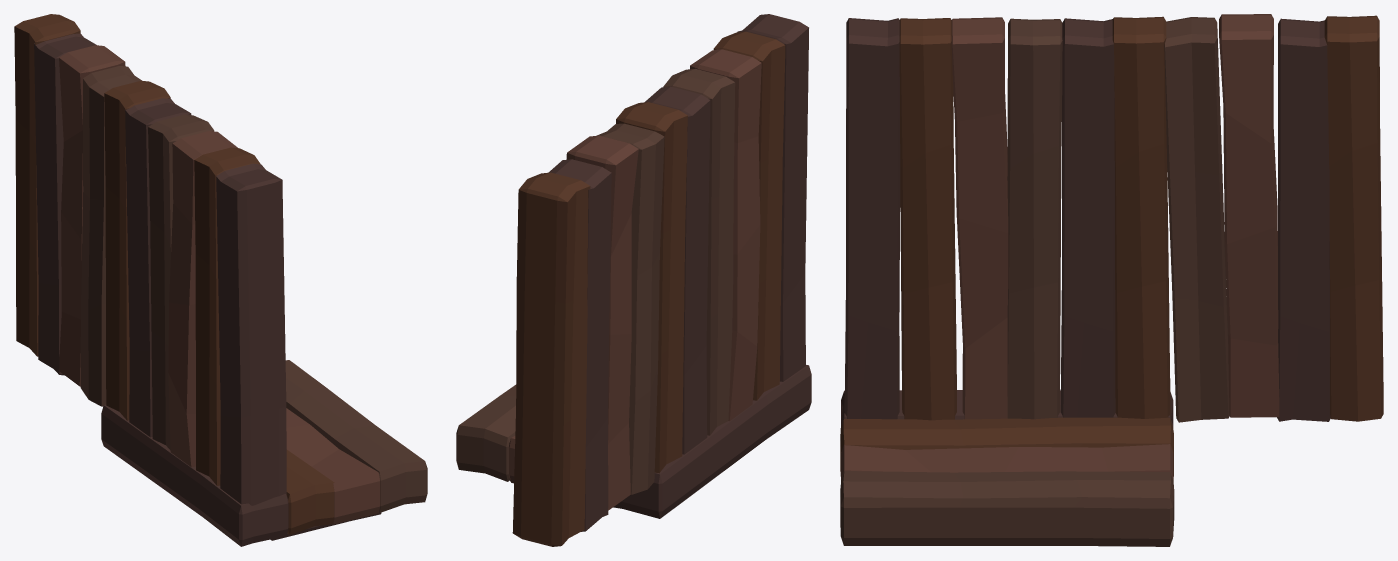
The model's file is StairModel.fbx.
3 views of the same model, side by side, from view 1: azimuth 30°, elevation 25°; view 2: azimuth 150°, elevation 25°; view 3: azimuth 270°, elevation 25° (orthographic). The views are drawn at different scales.
Visible parts, largest first — view 1: Back.002, Back, Back.006, Back.004, Back.001, Back.005, Back.007, Stair.1, Back.008, Back.009, Stair.4, Back.003 (+2 smaller); view 2: Back.008, Back.004, Back, Back.007, Back.003, Back.002, Back.001, Back.009, Back.005, Back.006, Stair.1, Stair.4; view 3: Stair.4, Back.004, Back.001, Back.002, Back.003, Back.007, Back.008, Back.005, Back.009, Back.006, Back, Stair.2 (+1 smaller).
Boxes of the visible parts, x1,y1,x2,y2 form: Back.002: (216, 163, 286, 505); Back: (168, 131, 237, 467); Back.006: (34, 33, 96, 375); Back.004: (80, 66, 141, 406); Back.001: (194, 147, 260, 485); Back.005: (125, 98, 191, 437); Back.007: (104, 80, 170, 420); Stair.1: (101, 404, 288, 546); Back.008: (14, 14, 80, 356); Back.009: (58, 45, 125, 386); Stair.4: (285, 360, 427, 512); Back.003: (148, 114, 214, 450); Back.008: (512, 172, 590, 546); Back.004: (597, 123, 664, 494); Back: (690, 49, 761, 421); Back.007: (616, 102, 687, 473); Back.003: (663, 68, 735, 435); Back.002: (737, 14, 808, 381); Back.001: (713, 31, 785, 400); Back.009: (566, 135, 638, 510); Back.005: (645, 86, 710, 454); Back.006: (548, 159, 611, 531); Stair.1: (613, 365, 811, 518); Stair.4: (456, 384, 516, 481); Stair.4: (840, 471, 1174, 546); Back.004: (1164, 17, 1229, 422); Back.001: (899, 18, 956, 420); Back.002: (844, 18, 900, 419); Back.003: (1007, 18, 1062, 419); Back.007: (1112, 16, 1170, 418); Back.008: (1324, 15, 1383, 421); Back.005: (1060, 18, 1115, 417); Back.009: (1219, 14, 1279, 417); Back.006: (1277, 18, 1330, 421); Back: (951, 17, 1008, 419); Stair.2: (840, 417, 1173, 480).
Bounding box in the file's own units: 812 × 1500 × 1666.
